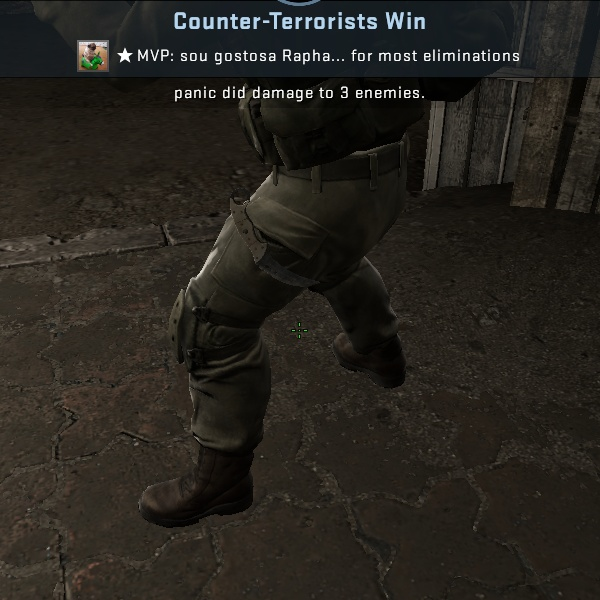ct_body: (176, 3, 489, 402)
